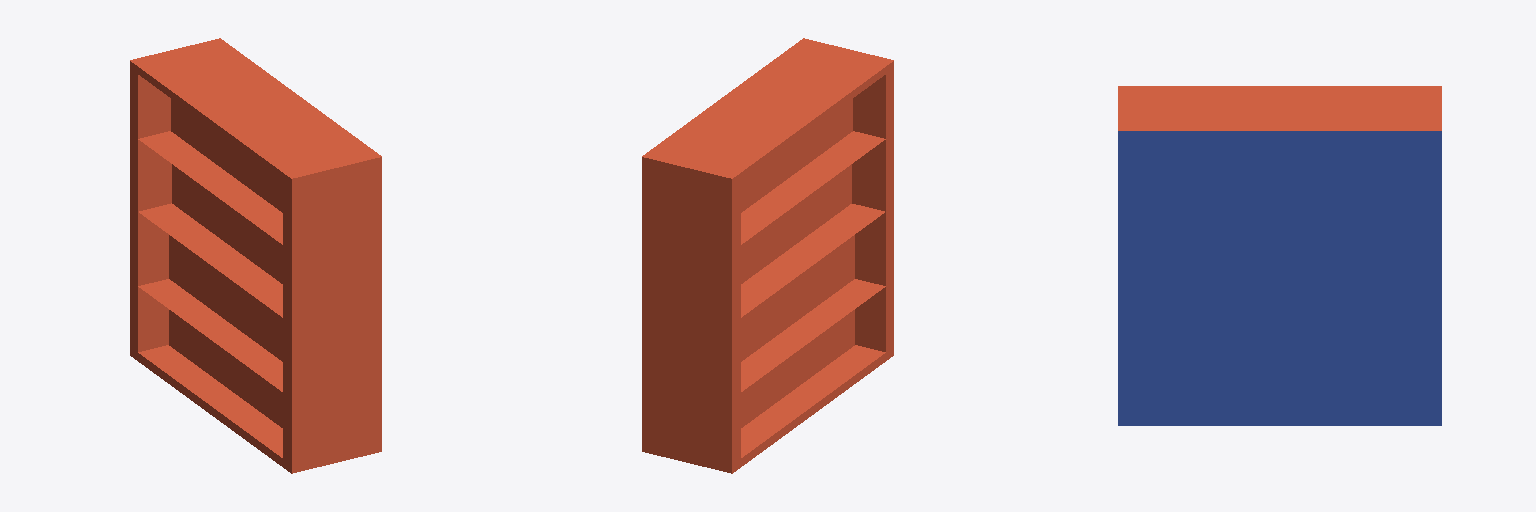
3 views of the same model, side by side, from view 1: azimuth 30°, elevation 25°; view 2: azimuth 150°, elevation 25°; view 3: azimuth 270°, elevation 25° (orthographic).
Visible parts, largest first — view 1: pasted__pCube22 group61; view 2: pasted__pCube22 group61; view 3: pasted__pCube22 group61.
Boxes of the visible parts, <box> form: pasted__pCube22 group61: <box>130,38,381,473</box>; pasted__pCube22 group61: <box>642,38,893,473</box>; pasted__pCube22 group61: <box>1118,86,1441,425</box>.
Bounding box in the file's own units: 1 × 3.1 × 3.09.
2 materials, 2 textured.